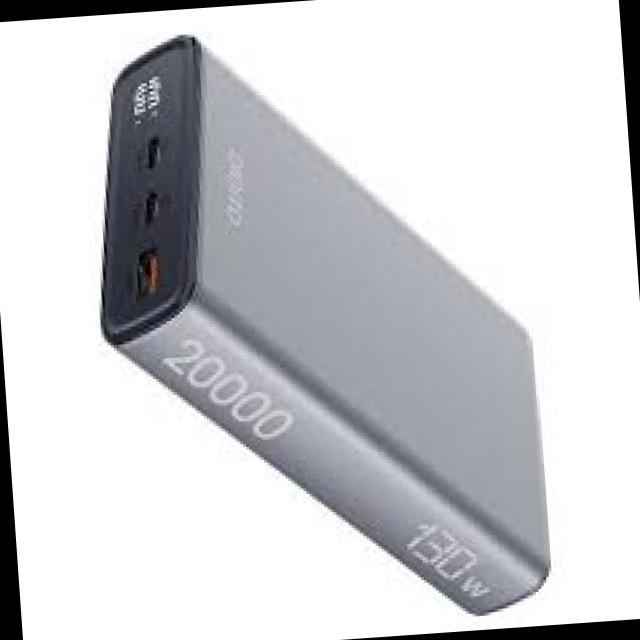power_bank: (67, 8, 557, 640)
